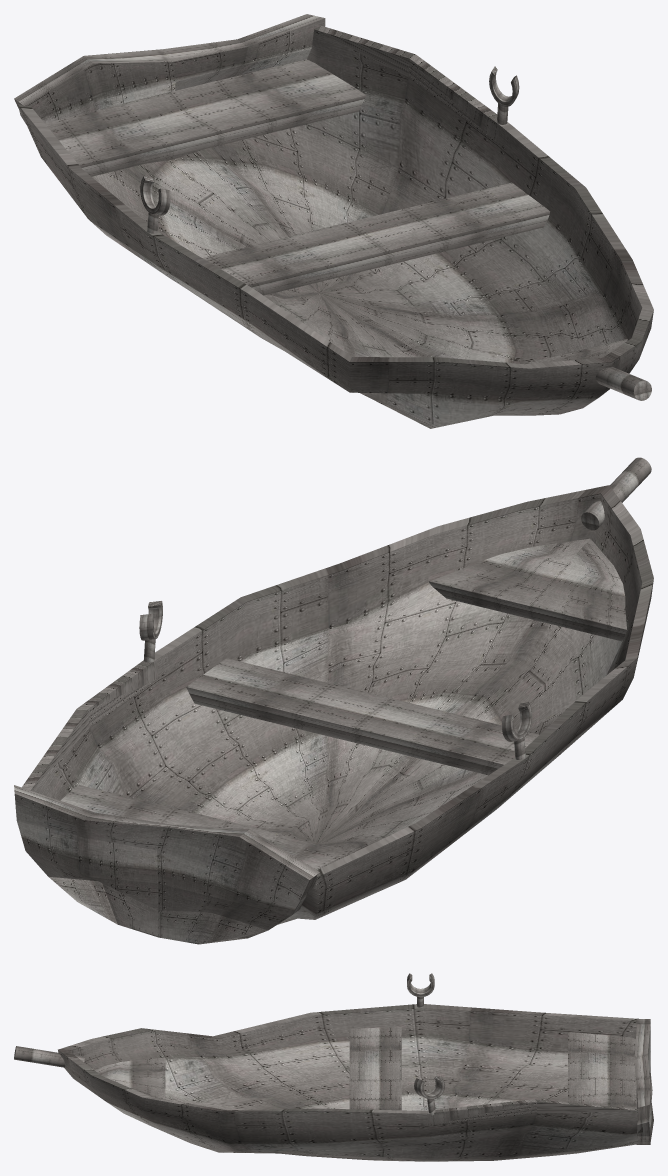
The model's file is Boat.fbx.
The picture shows the model from 3 angles, top to bottom: view 1: azimuth 30°, elevation 25°; view 2: azimuth 150°, elevation 25°; view 3: azimuth 270°, elevation 25°; orthographic projection. The views are drawn at different scales.
Visible parts, largest first — view 1: pCylinder3; view 2: pCylinder3; view 3: pCylinder3.
Part boxes in pixels (x1,y1,x2,y2): pCylinder3: [14, 14, 653, 428]; pCylinder3: [14, 457, 653, 944]; pCylinder3: [14, 973, 653, 1161].
Bounding box in the file's own units: 4.1 × 1.98 × 9.2.
1 material, 1 textured.
